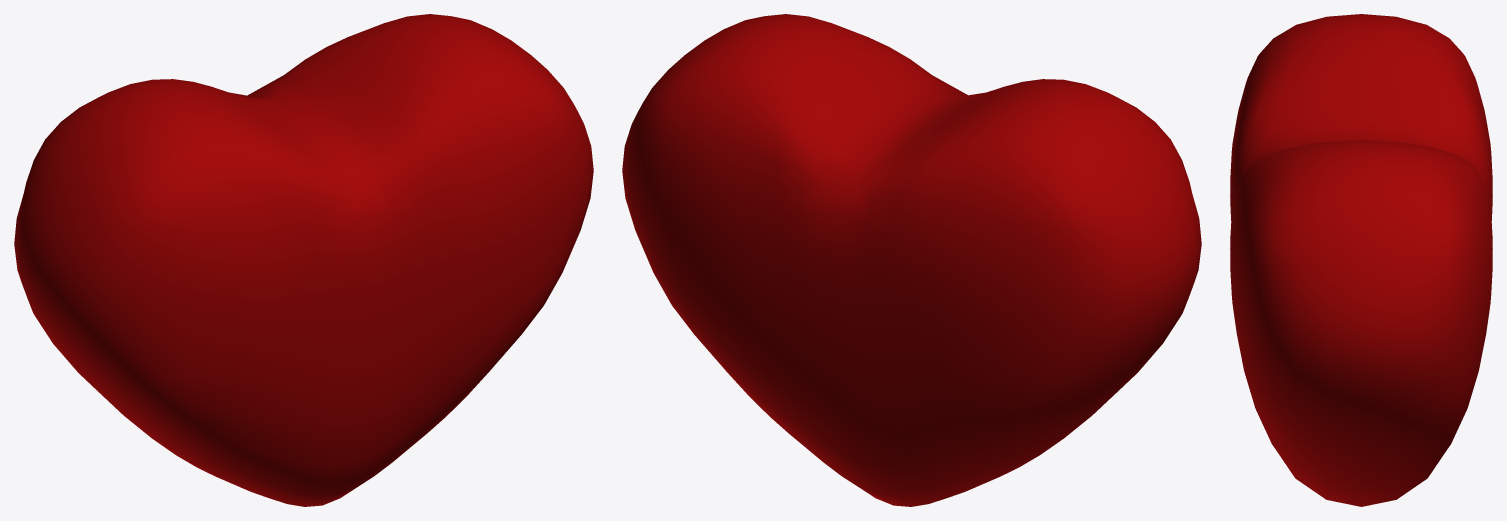
File: serdce_no_anym.fbx
The picture shows the model from 3 angles, left to right: view 1: azimuth 30°, elevation 25°; view 2: azimuth 150°, elevation 25°; view 3: azimuth 270°, elevation 25°; orthographic projection. The views are drawn at different scales.
Visible parts, largest first — view 1: polySurface196; view 2: polySurface196; view 3: polySurface196.
Part boxes in pixels (left/top/right/bottom): polySurface196: left=14, top=14, right=593, bottom=506; polySurface196: left=622, top=14, right=1201, bottom=506; polySurface196: left=1230, top=14, right=1492, bottom=506.
Size of the model in its own units: 4.23 by 3.27 by 1.89.
